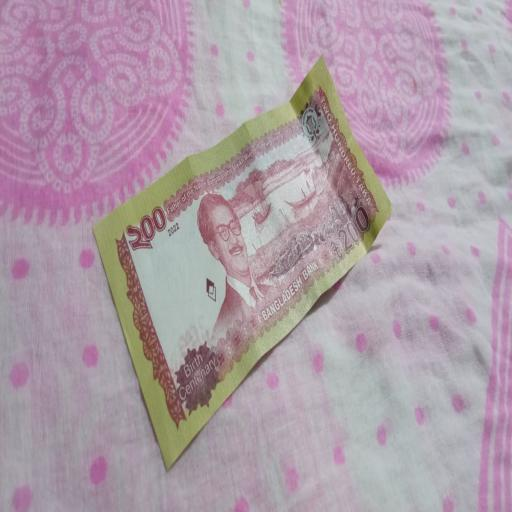200taka: (91, 57, 392, 464)
